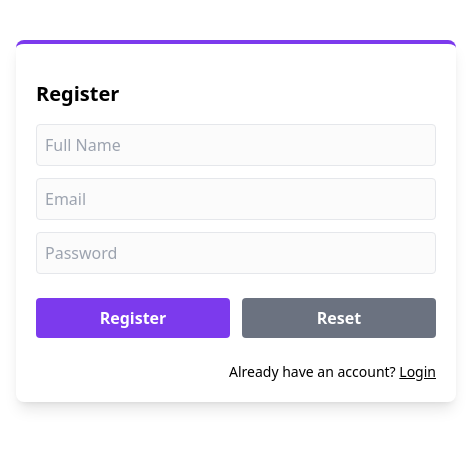
Test case: RegisterForm Component › displays error message when fields are missing
Click the button "Register" at (133,318), box [36, 298, 230, 338]
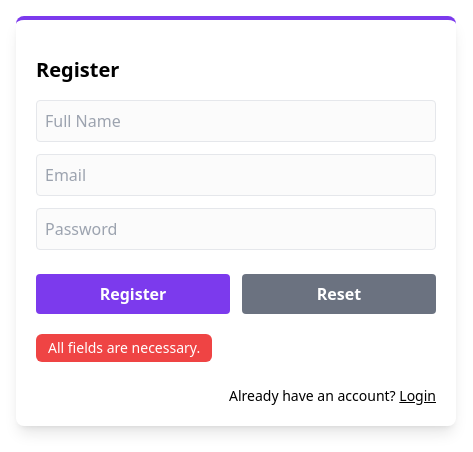
expect the text "All fields are necessary." is shown: met, box [36, 334, 212, 362]
